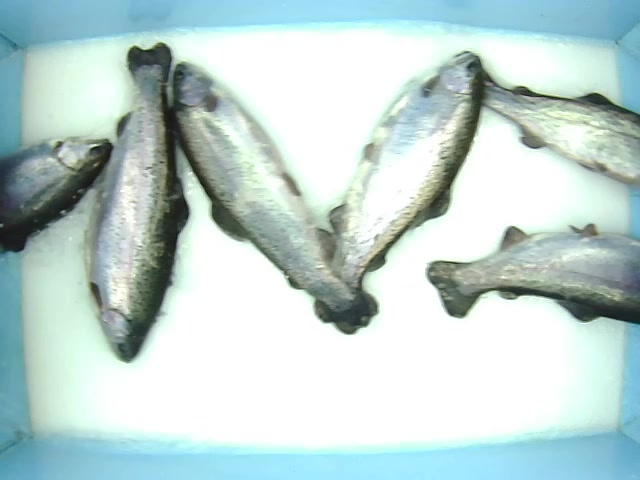fish: (171, 58, 387, 328), (312, 48, 481, 325), (79, 41, 191, 364)
